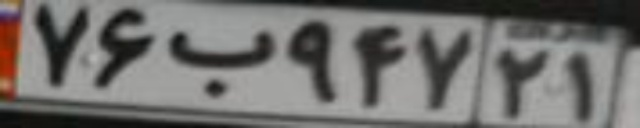1: (566, 51, 594, 119)
2: (494, 46, 550, 119)
4: (350, 24, 405, 107)
6: (94, 8, 153, 89)
7: (415, 25, 475, 110), (33, 5, 87, 88)
9: (283, 19, 334, 104)
be: (166, 28, 274, 100)
